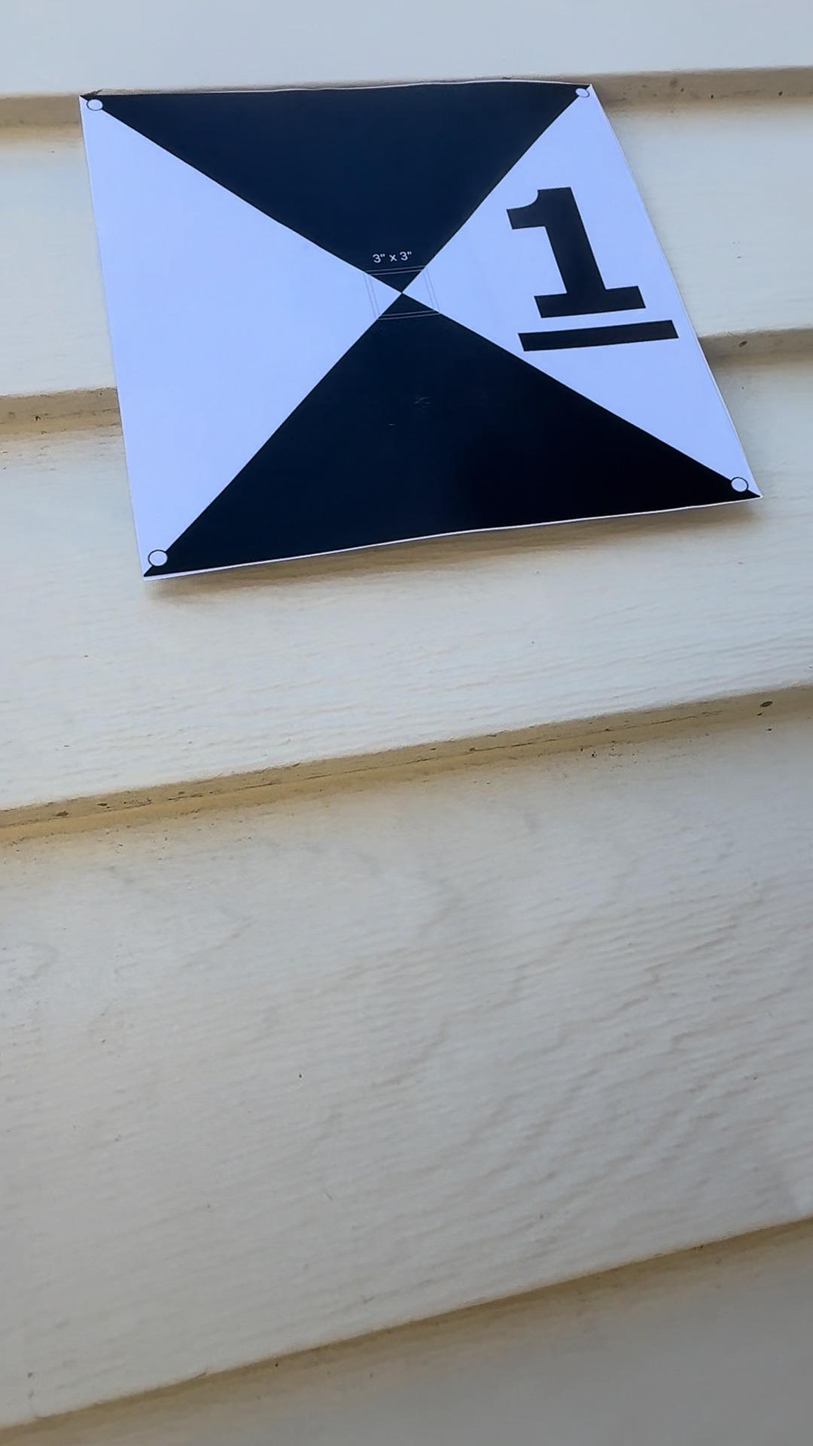target1: (56, 49, 787, 602)
